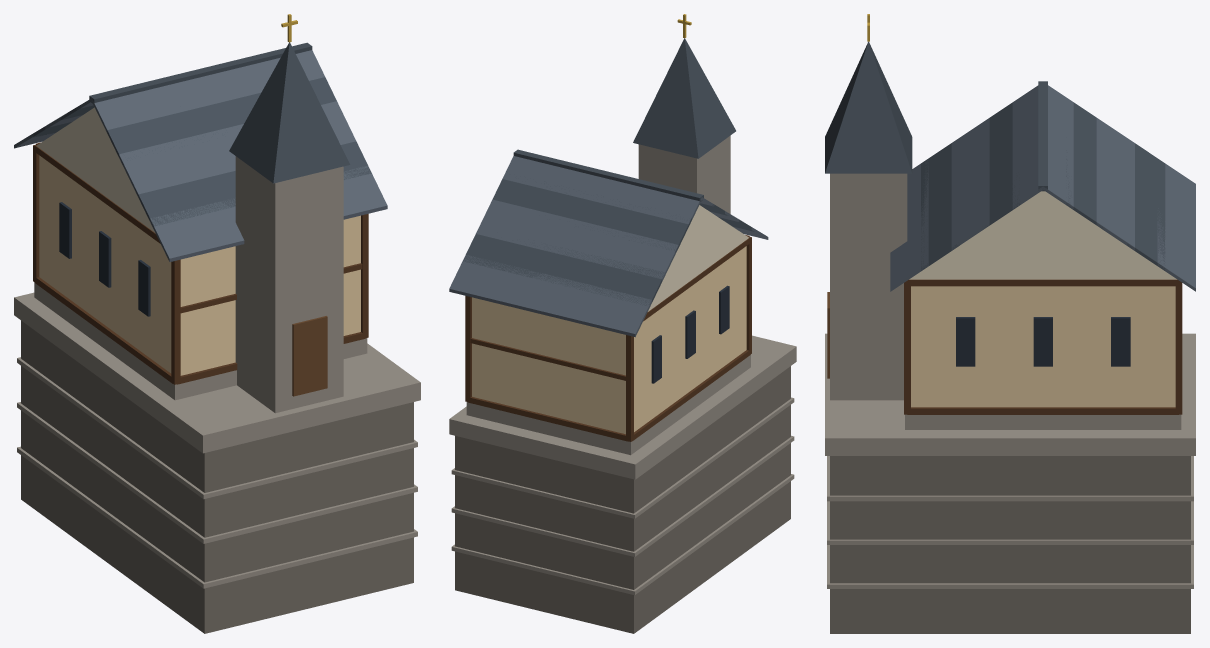
File: chapel.glb
The picture shows the model from 3 angles, left to right: view 1: azimuth 30°, elevation 25°; view 2: azimuth 150°, elevation 25°; view 3: azimuth 270°, elevation 25°; orthographic projection. The views are drawn at different scales.
Visible parts, largest first — view 1: chapel; view 2: chapel; view 3: chapel.
Boxes of the visible parts, x1,y1,x2,y2 form: chapel: [14, 14, 420, 633]; chapel: [449, 14, 796, 633]; chapel: [825, 14, 1195, 633].
Size of the model in its own units: 5.1 by 12.95 by 7.65.
